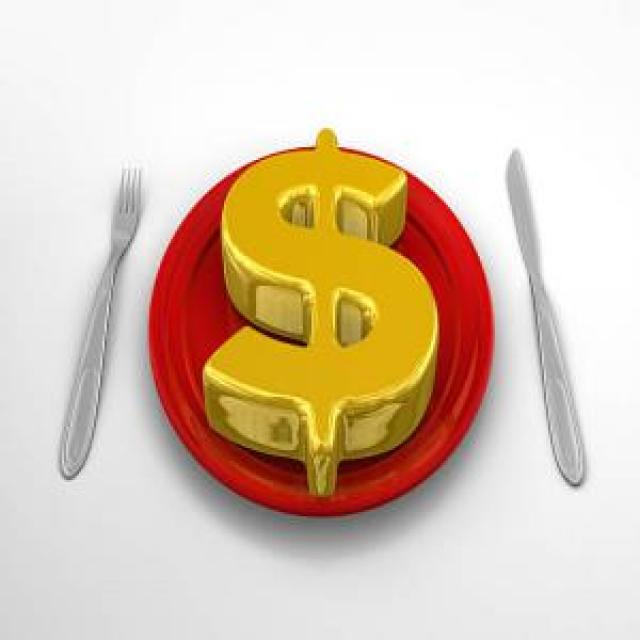knife: (506, 145, 586, 486)
